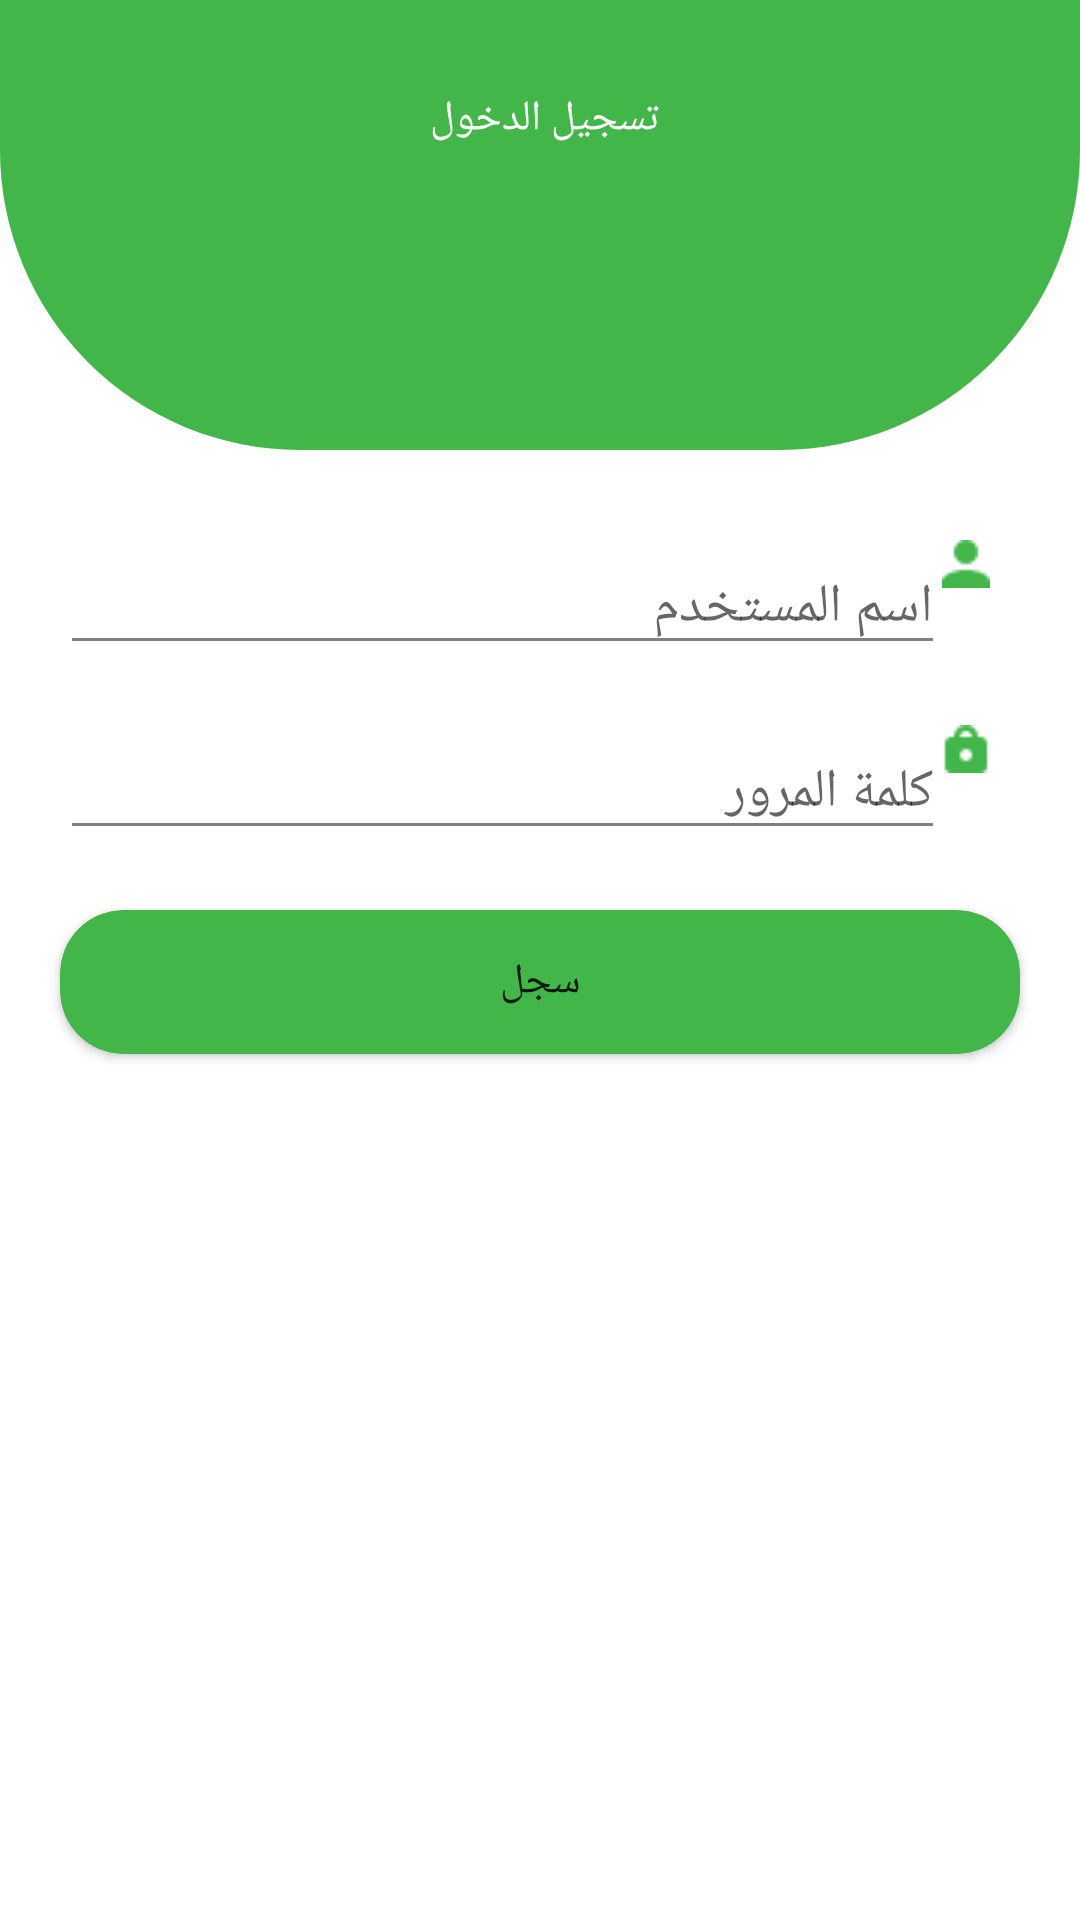

Where to tap for icons on this 1080w x 1920h app screen, as point (x, y):
lock: point (966, 749)
person: point (966, 564)
